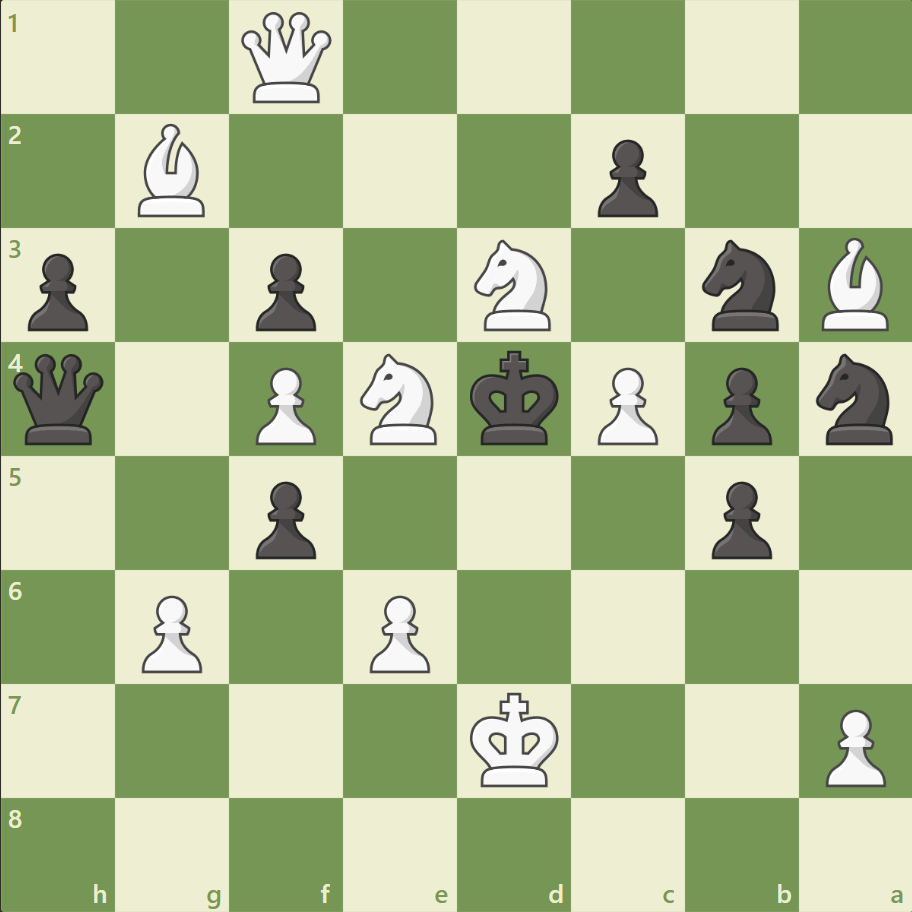B: (812, 233, 896, 336), (131, 120, 215, 222)
K: (465, 685, 565, 793)
N: (351, 348, 449, 450), (465, 234, 562, 337)
P: (133, 586, 208, 677), (247, 359, 322, 450), (815, 700, 889, 791), (361, 586, 435, 677), (588, 359, 662, 450)
Q: (237, 9, 336, 108)
k: (465, 344, 565, 452)
n: (692, 234, 789, 337), (806, 348, 903, 450)
p: (701, 473, 776, 564), (247, 473, 322, 564), (701, 359, 776, 450), (247, 246, 322, 337), (20, 246, 95, 337), (588, 132, 662, 223)
q: (10, 349, 109, 449)
